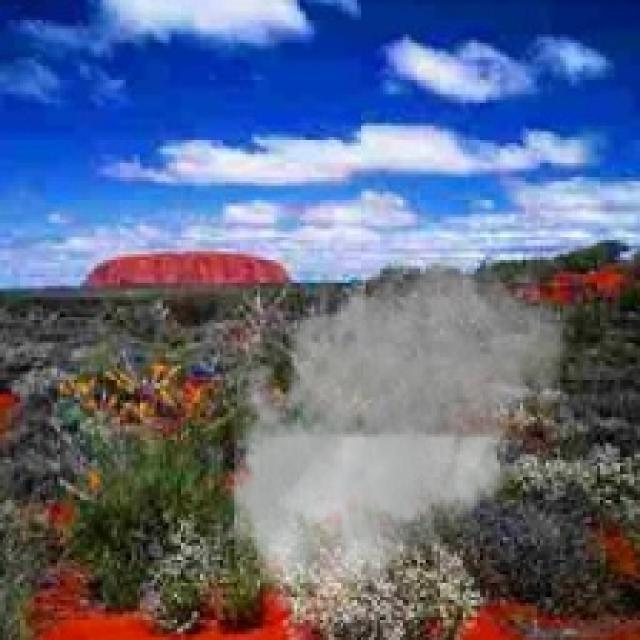Smoke: (220, 239, 574, 612)
